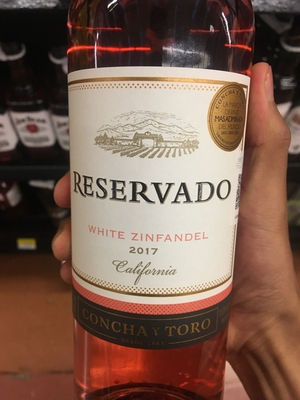reservado white zinfandel: (65, 15, 245, 400)
